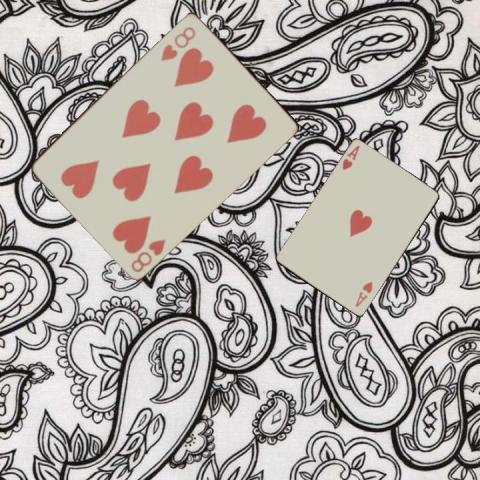8h: (158, 23, 198, 63), (128, 236, 168, 273)
Ah: (352, 278, 374, 308), (339, 143, 361, 172)
